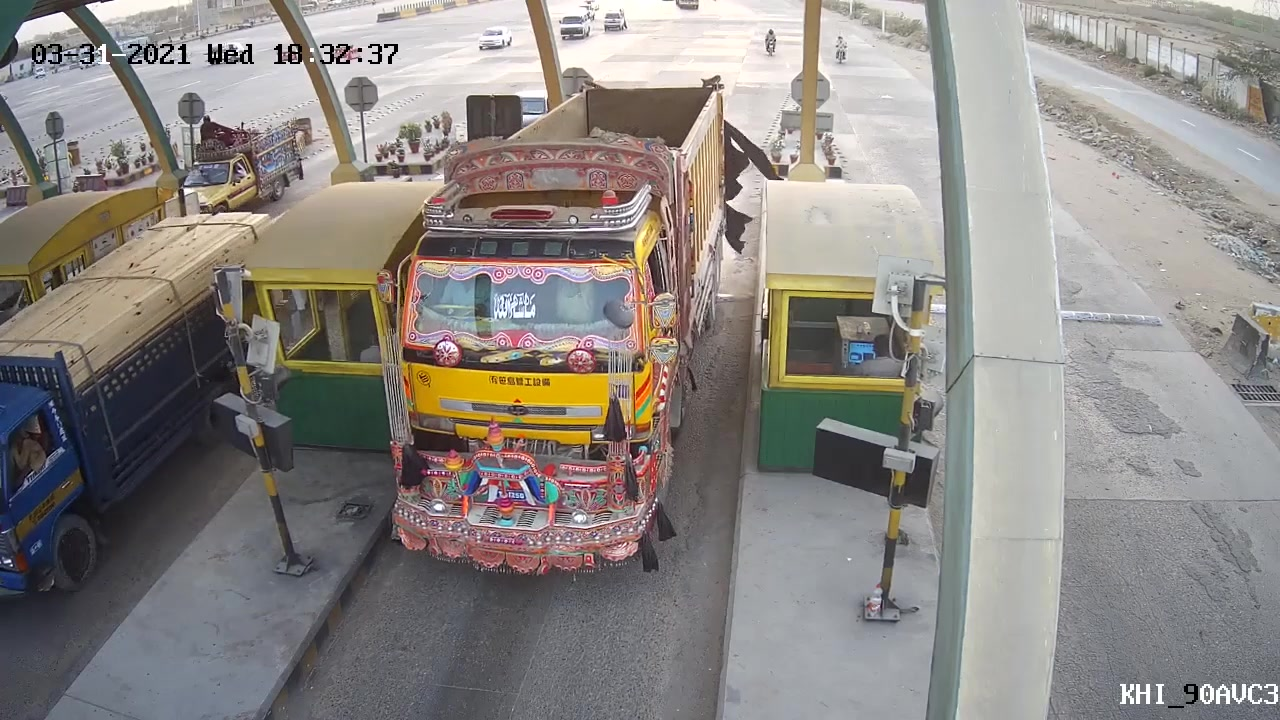F5: (361, 68, 736, 581)
